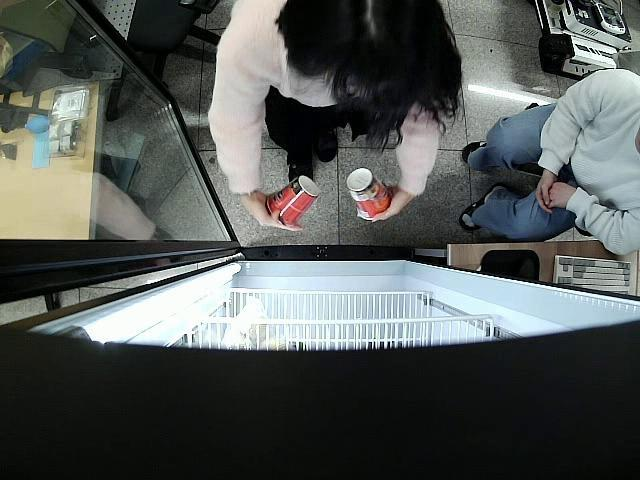02_shinRamen_S: (264, 176, 320, 230), (346, 168, 392, 224)
